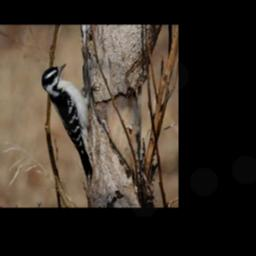Woodpecker: (40, 62, 100, 182)
